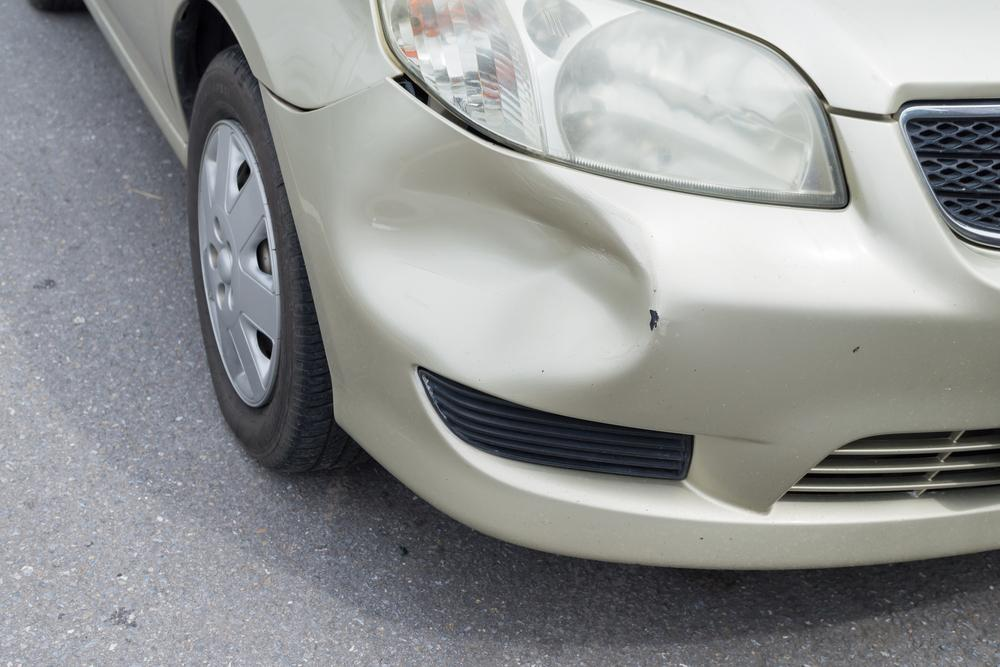dent: (344, 144, 657, 383)
